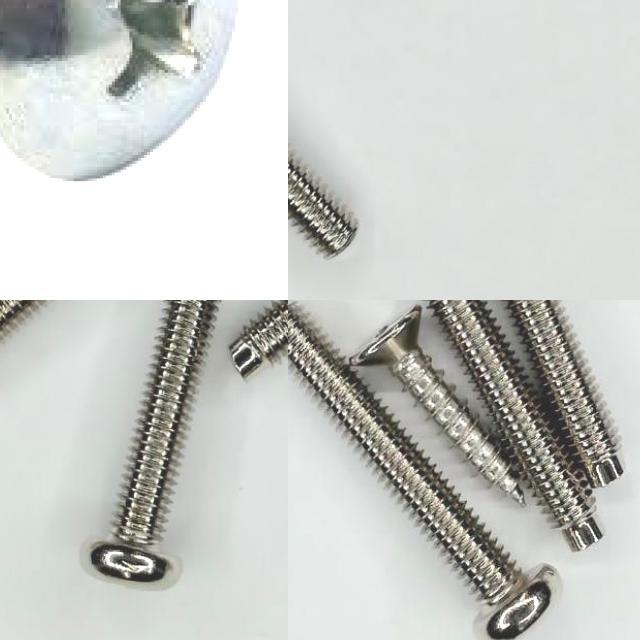Screw: (288, 303, 555, 640), (0, 0, 246, 184), (426, 300, 601, 550), (90, 300, 219, 582), (348, 306, 524, 505), (506, 300, 623, 488), (288, 155, 356, 257)
